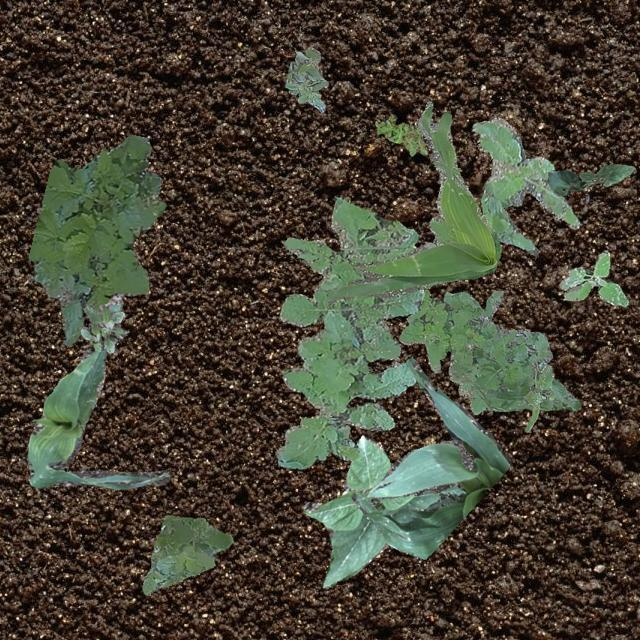crop: (350, 357, 510, 558), (26, 294, 170, 488), (302, 434, 464, 586), (546, 162, 634, 195)
weed: (274, 197, 424, 468), (324, 100, 500, 304), (28, 133, 166, 344), (398, 288, 580, 414), (470, 116, 578, 255), (142, 514, 232, 594), (558, 250, 628, 306), (284, 46, 328, 110), (80, 303, 128, 352), (374, 114, 426, 154), (524, 362, 554, 430)
